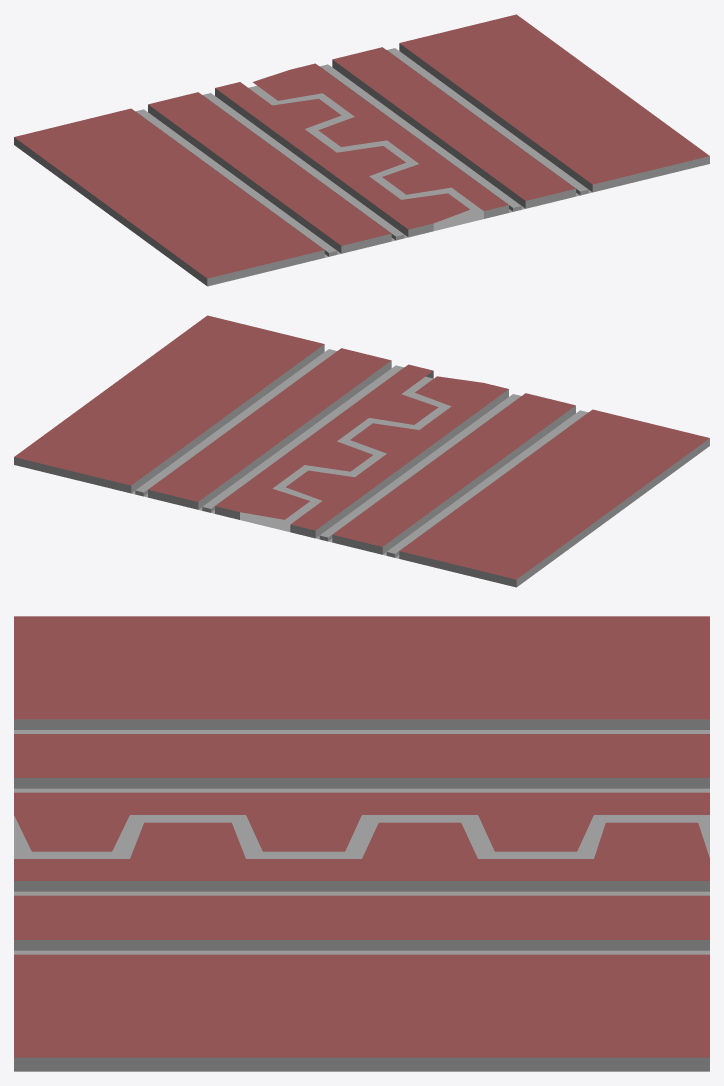
The model's file is straight2.fbx.
3 renders of one model, top to bottom at view 1: azimuth 30°, elevation 25°; view 2: azimuth 150°, elevation 25°; view 3: azimuth 270°, elevation 25°, orthographic. The views are drawn at different scales.
Parts seen in each view (by area): view 1: Straight2; view 2: Straight2; view 3: Straight2.
Part boxes in pixels (x1,y1,x2,y2): Straight2: (14, 14, 709, 286); Straight2: (14, 315, 709, 587); Straight2: (14, 616, 709, 1071).
Size of the model in its own units: 600 by 9 by 400.
